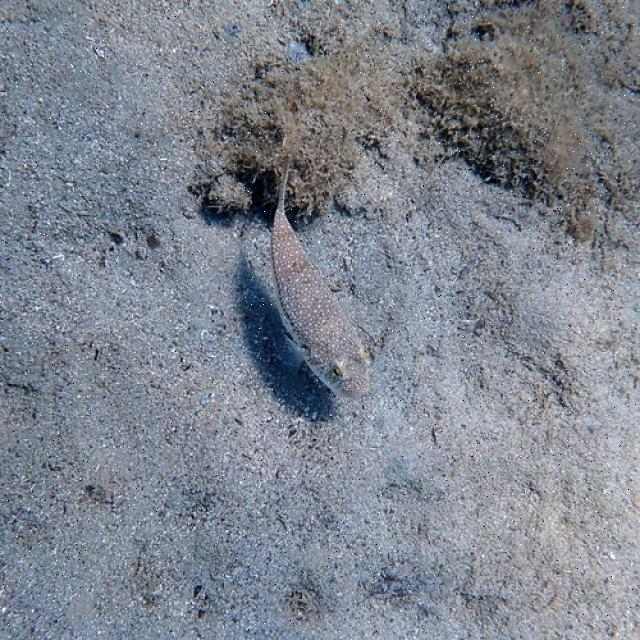Balik: (272, 173, 369, 396)
